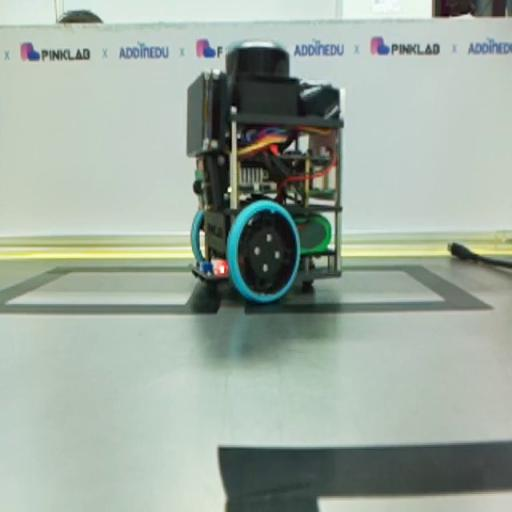pinky_63: (186, 39, 343, 303)
